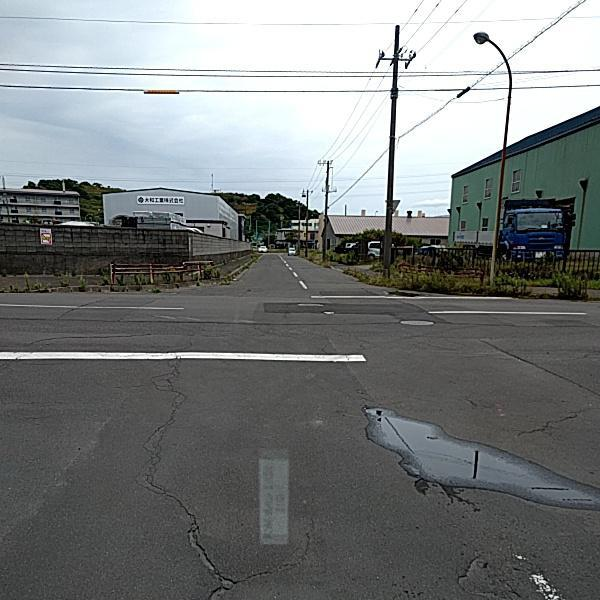D00: (136, 352, 234, 595)
D10: (26, 326, 149, 348), (504, 409, 589, 437)
D50: (395, 316, 434, 326)
